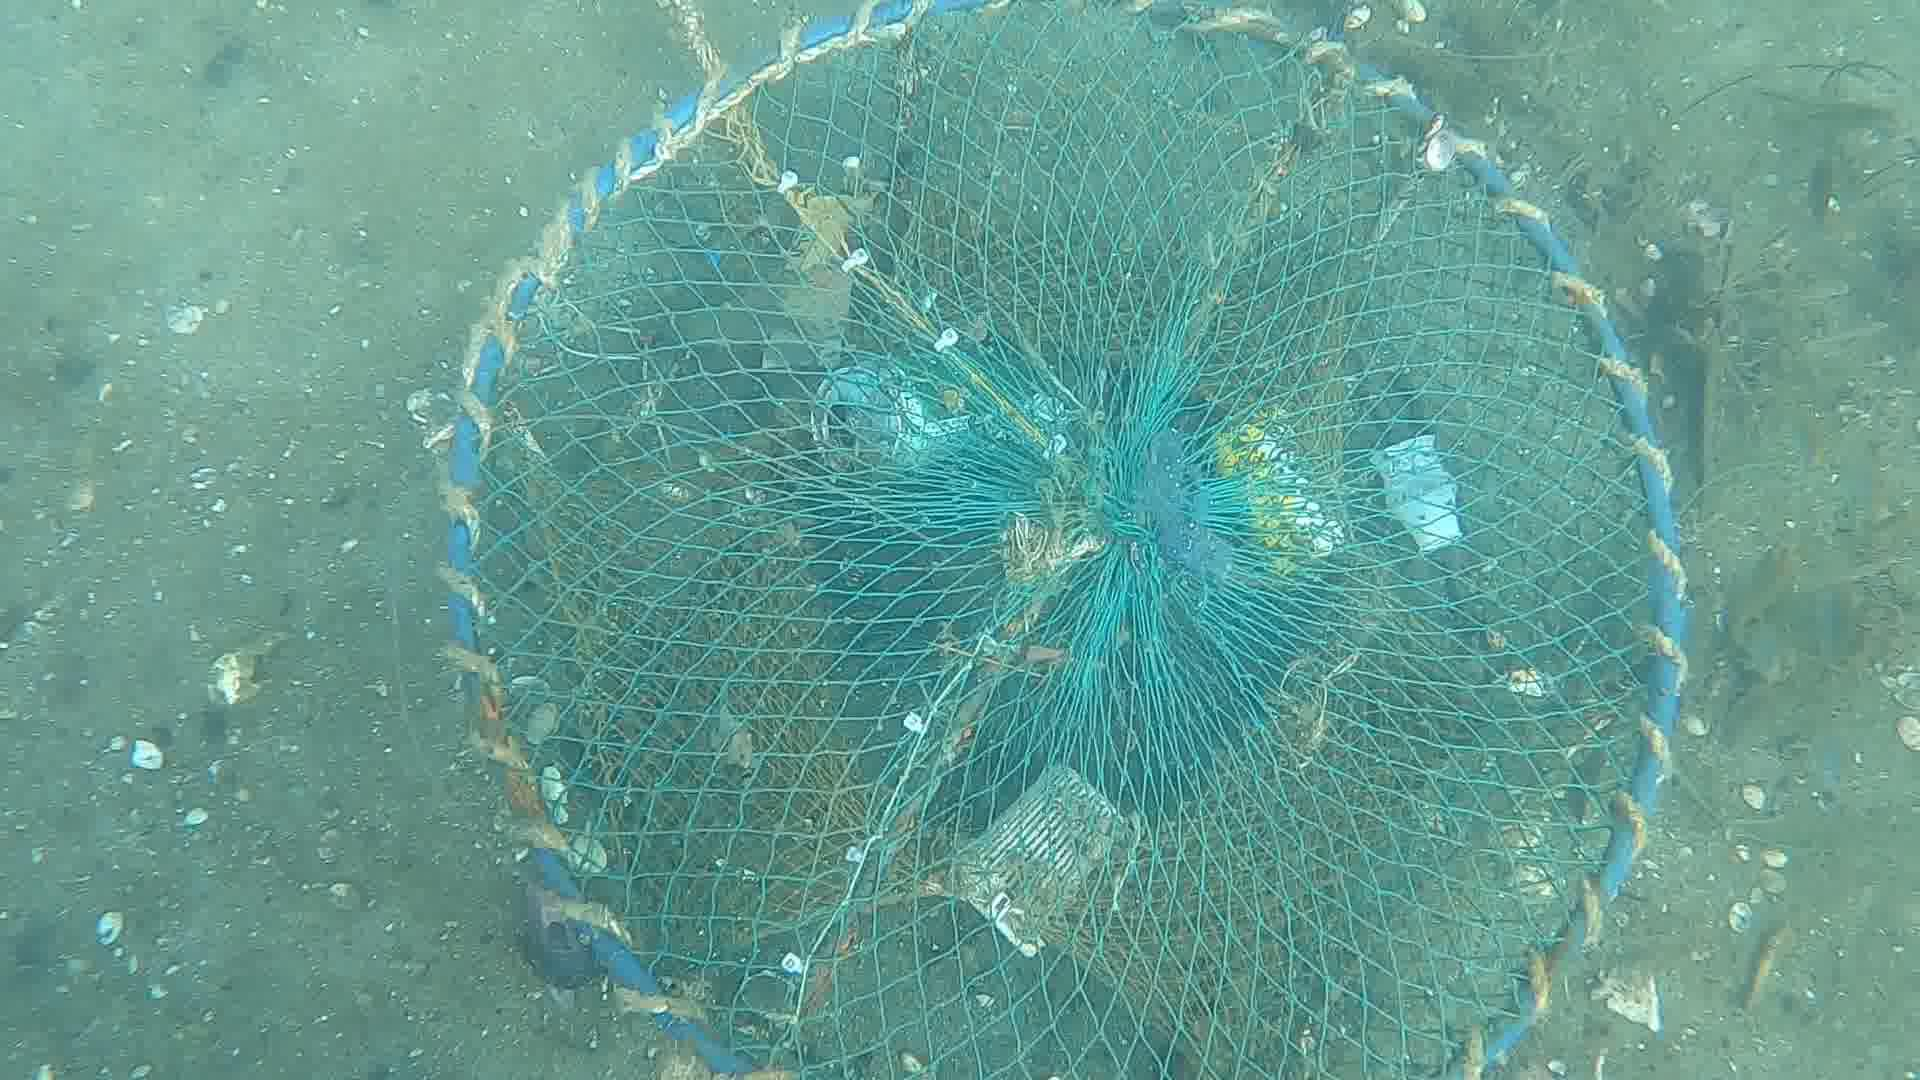circular fish trap: (426, 0, 1691, 1080)
